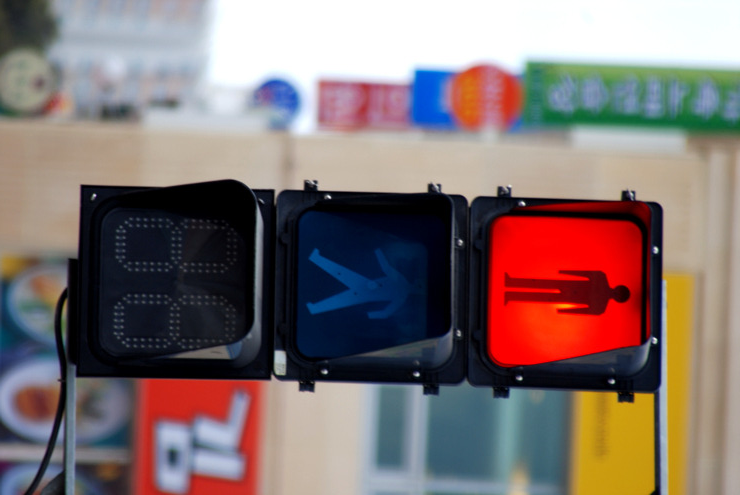traffic_light: (297, 53, 564, 306)
traffic_light_number: (293, 313, 559, 439)
